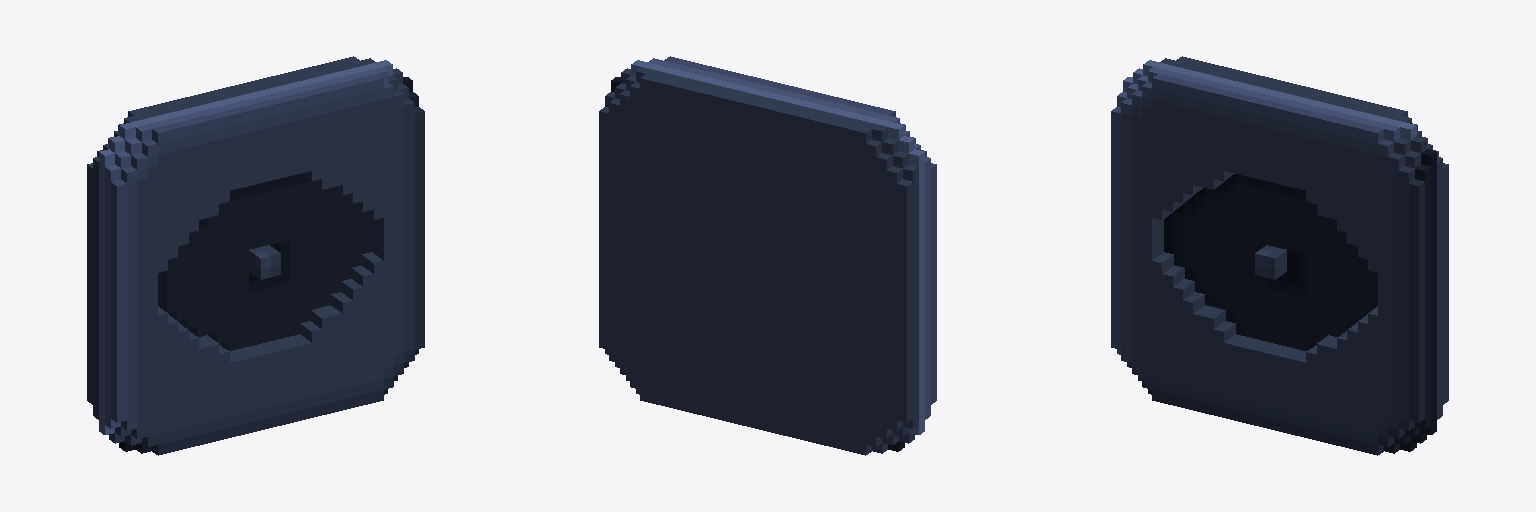
The picture shows the model from 3 angles: view 1: azimuth 30°, elevation 25°; view 2: azimuth 150°, elevation 25°; view 3: azimuth 330°, elevation 25°; orthographic projection.
Visible parts, largest first — view 1: object 1; view 2: object 1; view 3: object 1.
Boxes of the visible parts, <box> form: object 1: <box>87,56,424,455</box>; object 1: <box>599,56,936,455</box>; object 1: <box>1111,56,1448,455</box>.
Size of the model in its own units: 3 by 3 by 0.5.
1 materials, 1 textured.